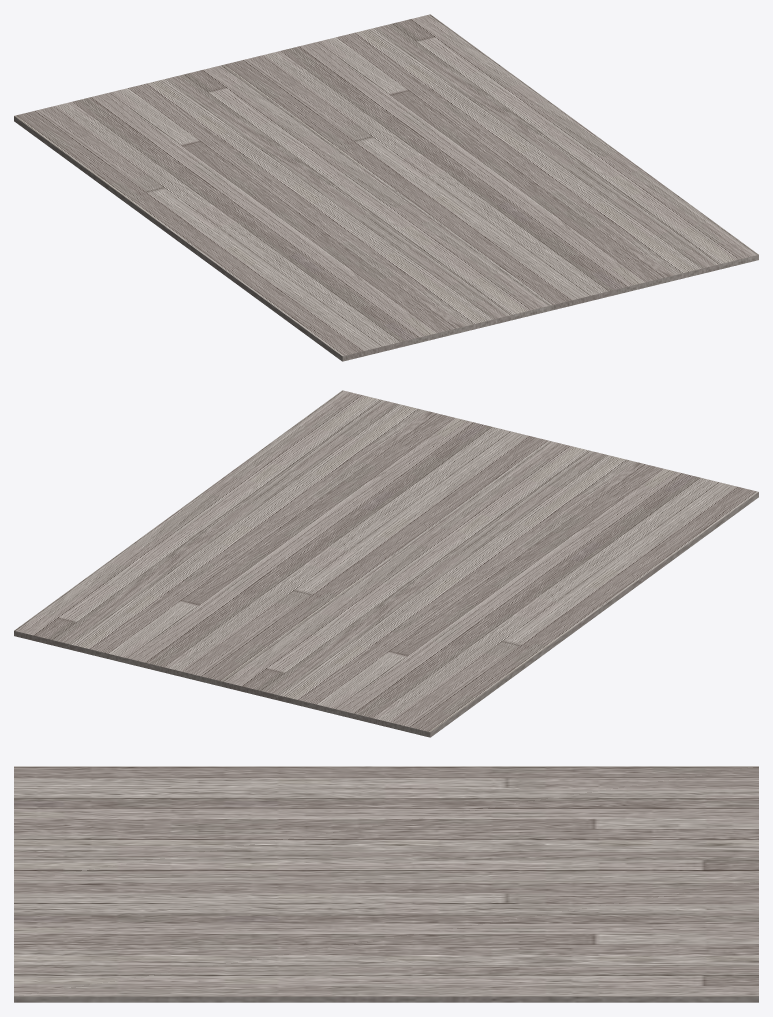
The model's file is floor-tile.glb.
3 renders of one model, top to bottom at view 1: azimuth 30°, elevation 25°; view 2: azimuth 150°, elevation 25°; view 3: azimuth 270°, elevation 25°, orthographic. The views are drawn at different scales.
Bounding box in the file's own units: 0.1561 × 0.00192 × 0.2133.
Materials: 1 (1 with a texture image).
